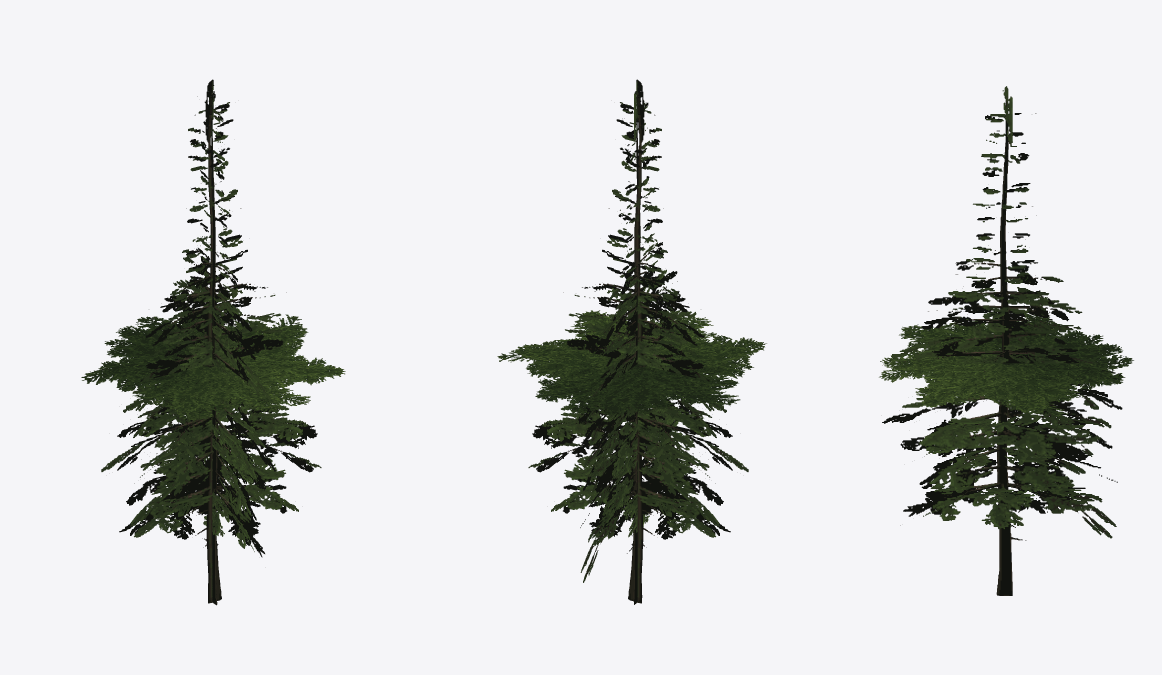
File: far.glb
The picture shows the model from 3 angles, left to right: view 1: azimuth 30°, elevation 25°; view 2: azimuth 150°, elevation 25°; view 3: azimuth 270°, elevation 25°; orthographic projection. The views are drawn at different scales.
Visible parts, largest first — view 1: far; view 2: far; view 3: far.
Boxes of the visible parts, bbox=[...] form: far: bbox=[81, 79, 345, 605]; far: bbox=[497, 79, 766, 604]; far: bbox=[879, 86, 1133, 595].
Bounding box in the file's own units: 6.94 × 14.26 × 6.94.
Materials: 2 (2 with a texture image).
